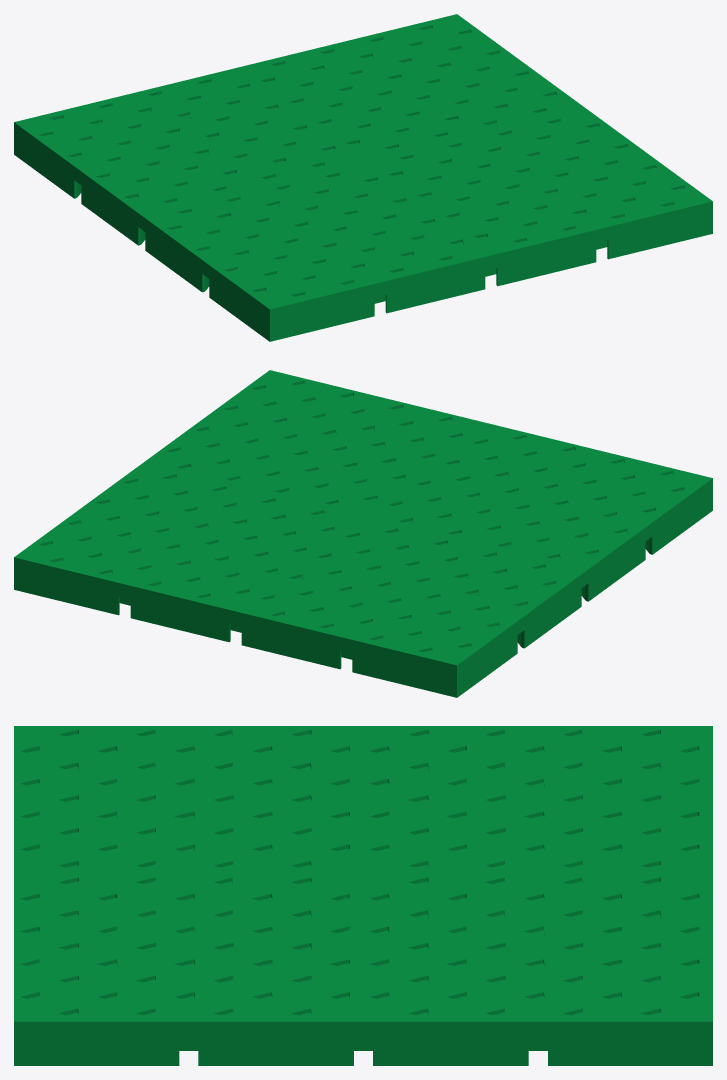
File: 10x10 Grass.obj
The picture shows the model from 3 angles, top to bottom: view 1: azimuth 30°, elevation 25°; view 2: azimuth 150°, elevation 25°; view 3: azimuth 270°, elevation 25°; orthographic projection. The views are drawn at different scales.
Visible parts, largest first — view 1: Körper1; view 2: Körper1; view 3: Körper1.
Part boxes in pixels (x1=…): Körper1: x1=14, y1=14, x2=712, y2=341; Körper1: x1=14, y1=370, x2=712, y2=697; Körper1: x1=14, y1=726, x2=712, y2=1065.
Size of the model in its own units: 100 by 7 by 100.
